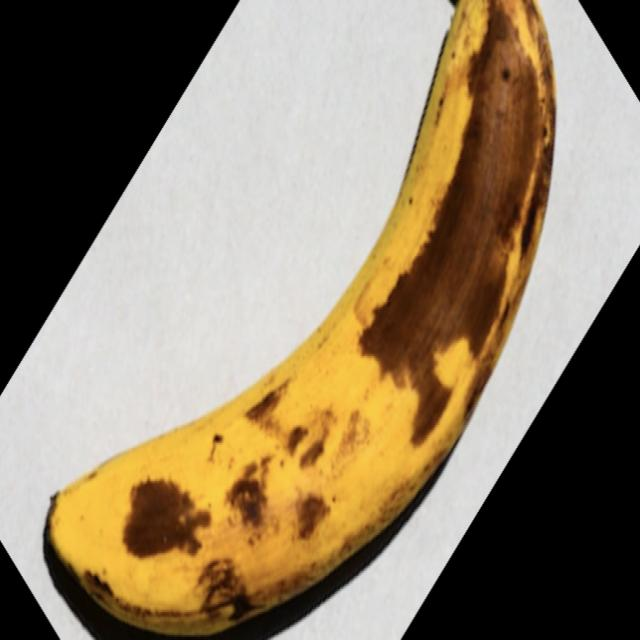overripe: (42, 0, 607, 640)
